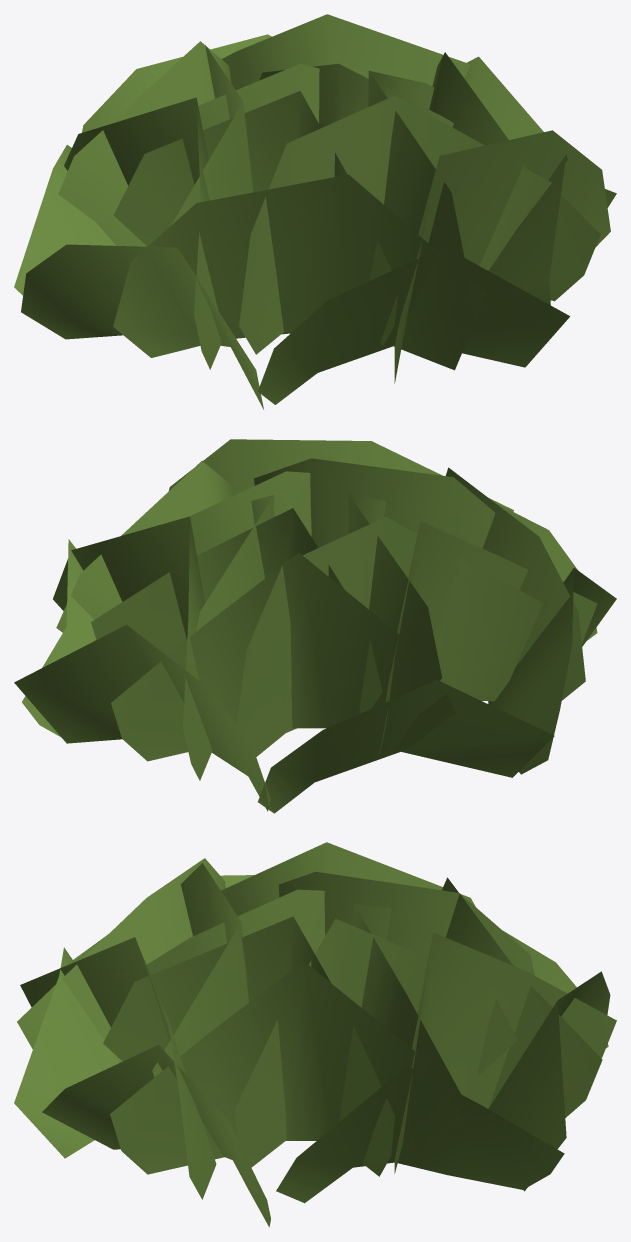
File: Short_Grass_Patch_1.glb
The picture shows the model from 3 angles, top to bottom: view 1: azimuth 30°, elevation 25°; view 2: azimuth 150°, elevation 25°; view 3: azimuth 270°, elevation 25°; orthographic projection. The views are drawn at different scales.
Parts seen in each view (by area): view 1: Short_Grass_Patch_1; view 2: Short_Grass_Patch_1; view 3: Short_Grass_Patch_1.
Part boxes in pixels (x1=…): Short_Grass_Patch_1: x1=14, y1=14, x2=616, y2=409; Short_Grass_Patch_1: x1=14, y1=439, x2=616, y2=813; Short_Grass_Patch_1: x1=14, y1=842, x2=616, y2=1227.
Bounding box in the file's own units: 0.2316 × 0.0904 × 0.2206.
